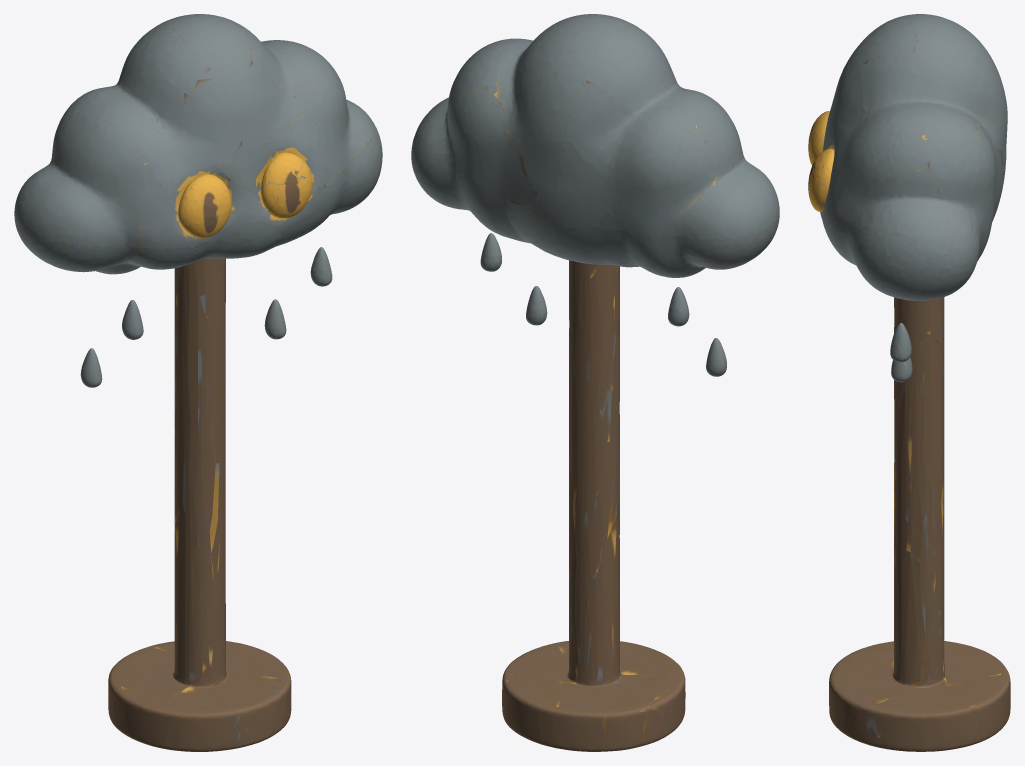
The model's file is busstop_rain_cloud.glb.
The picture shows the model from 3 angles, left to right: view 1: azimuth 30°, elevation 25°; view 2: azimuth 150°, elevation 25°; view 3: azimuth 270°, elevation 25°; orthographic projection.
Visible parts, largest first — view 1: Mesh_0; view 2: Mesh_0; view 3: Mesh_0.
Part boxes in pixels (x1,y1,x2,y2): Mesh_0: [14, 14, 382, 751]; Mesh_0: [411, 14, 779, 751]; Mesh_0: [808, 14, 1010, 751].
Size of the model in its own units: 1 by 1.9 by 0.5034.
Materials: 1 (1 with a texture image).
